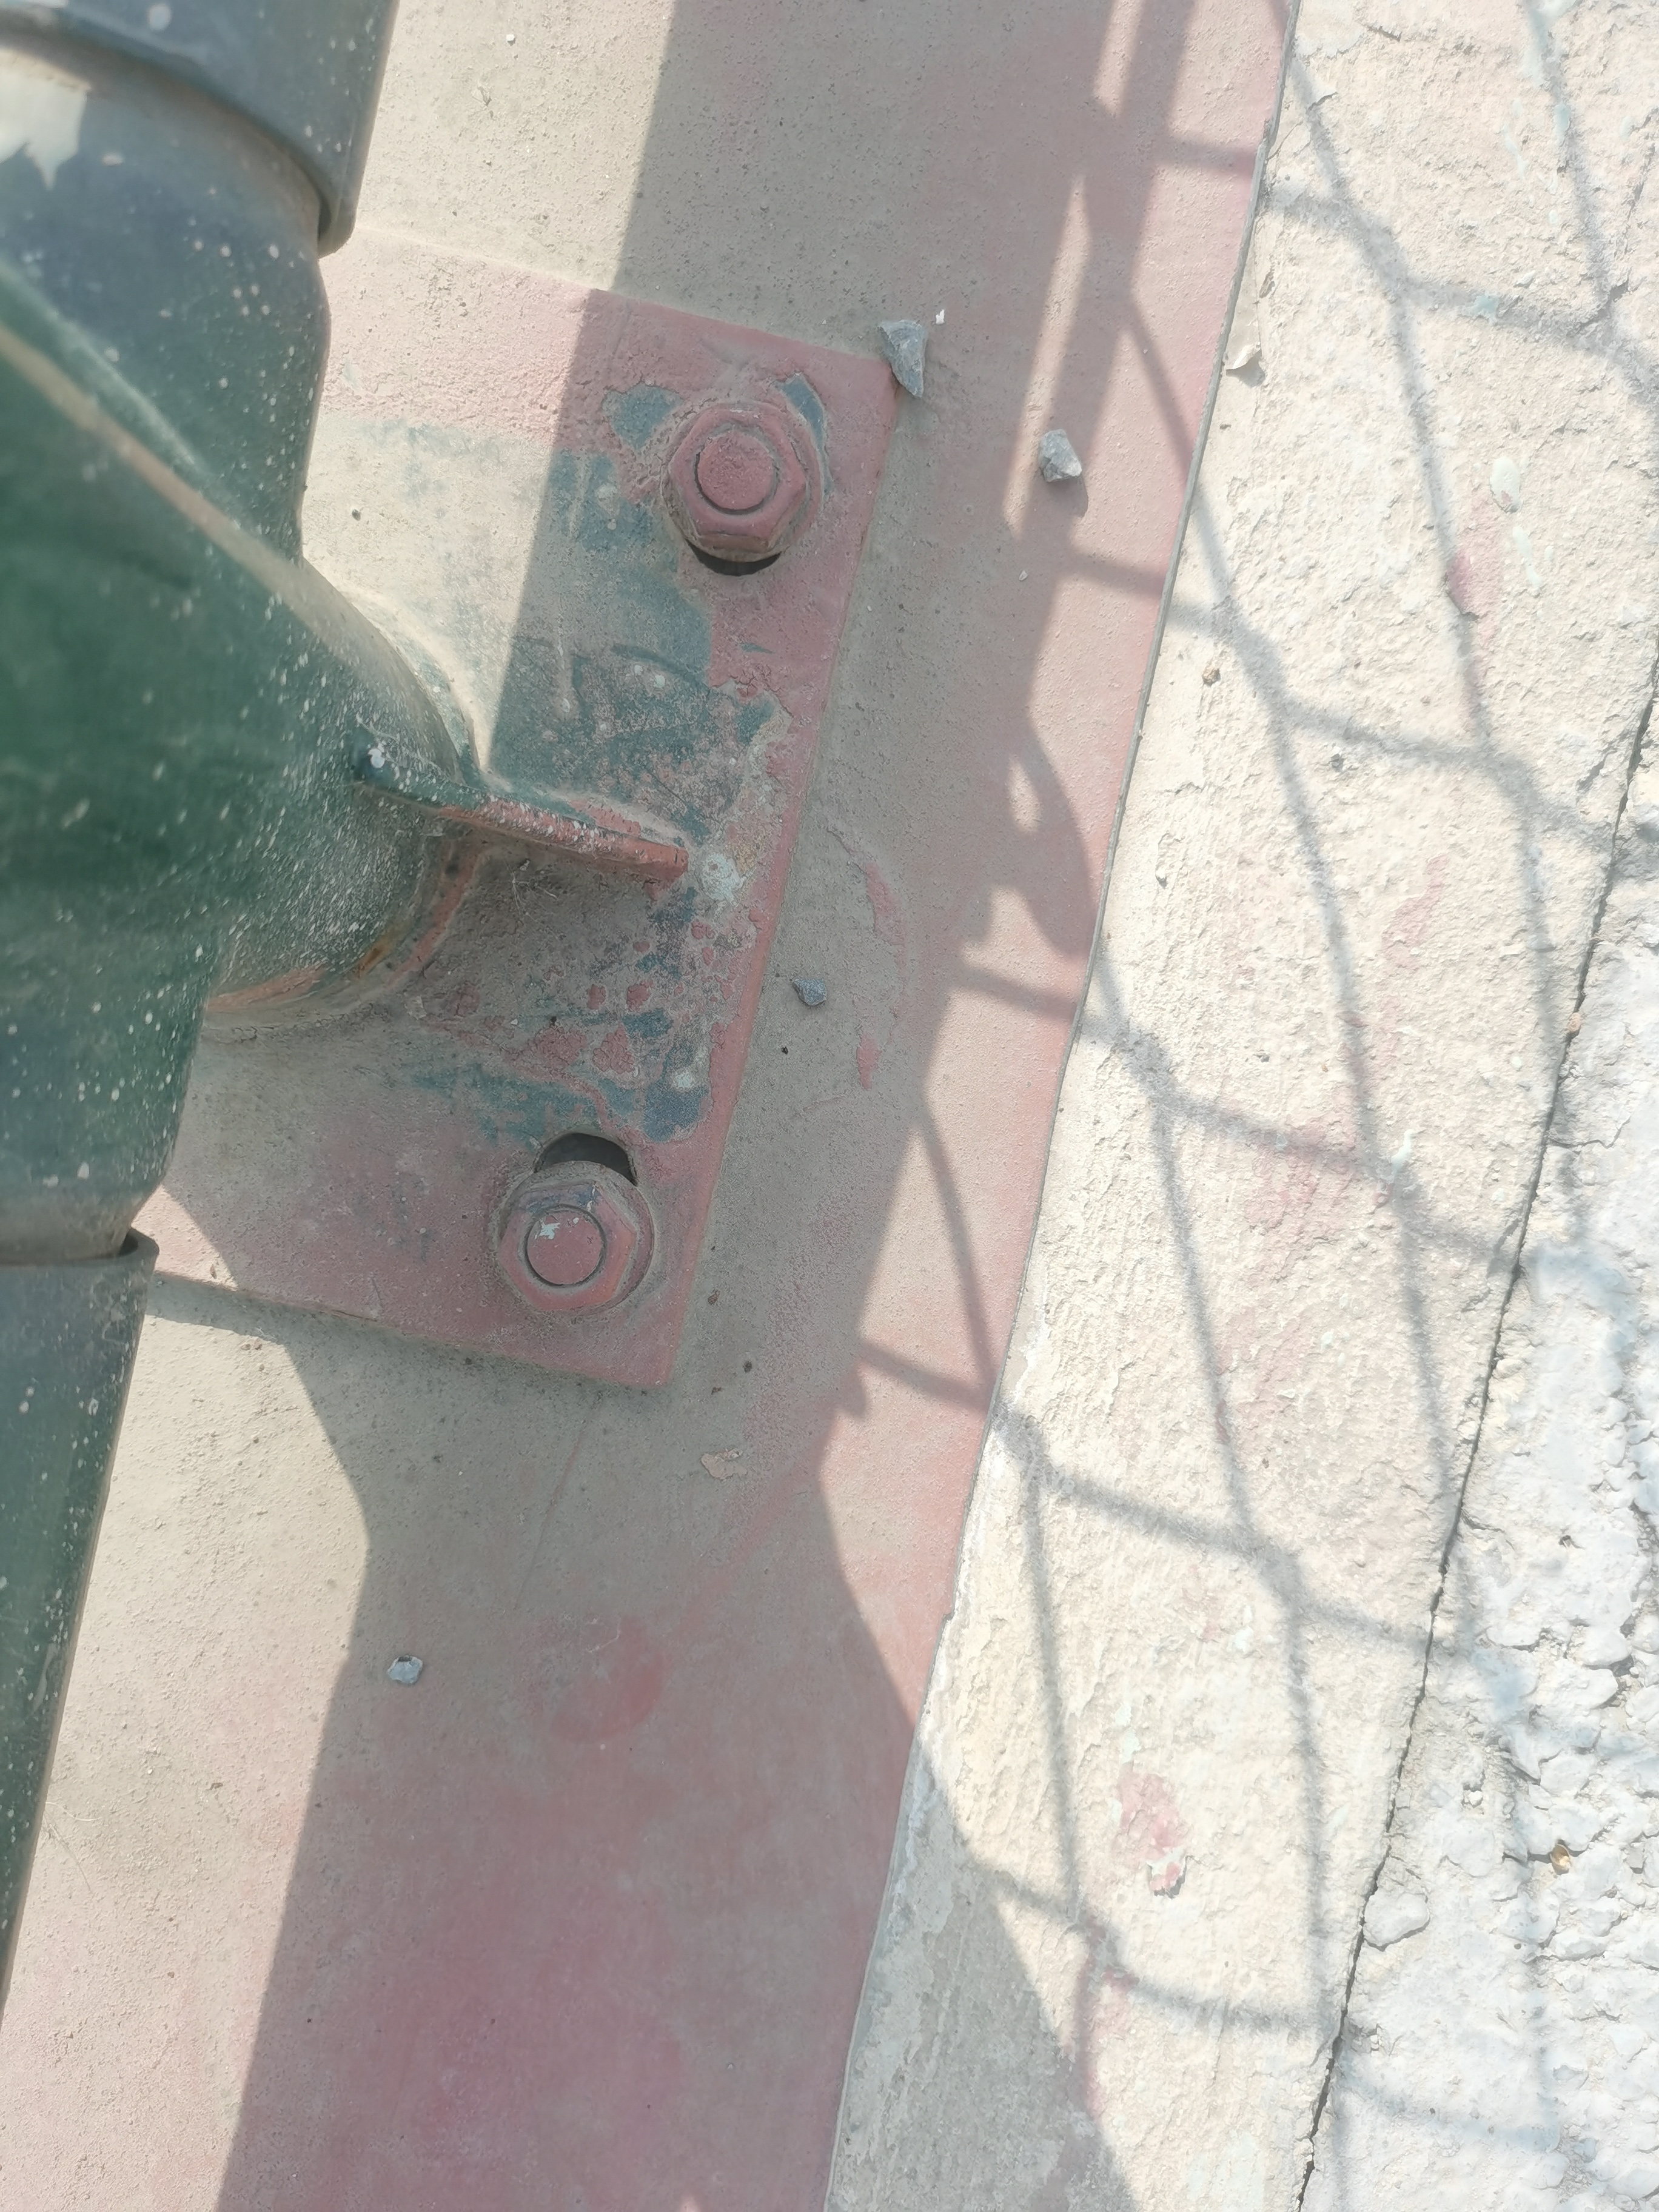bolt_b: (659, 401, 814, 556), (488, 1174, 641, 1318)
